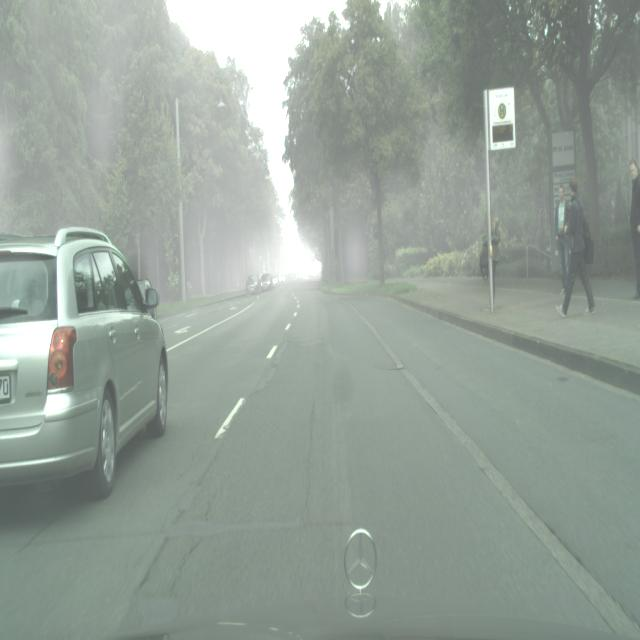bus: (0, 226, 169, 499), (246, 274, 260, 296), (259, 272, 273, 292)
person: (557, 174, 595, 317), (629, 159, 640, 299), (556, 185, 570, 294)
